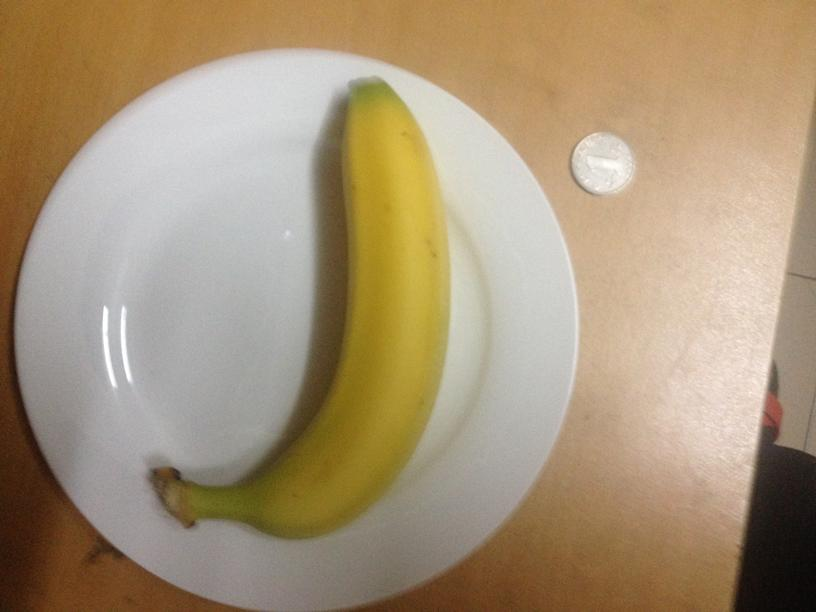banana: (184, 78, 451, 539)
coin: (572, 126, 632, 192)
